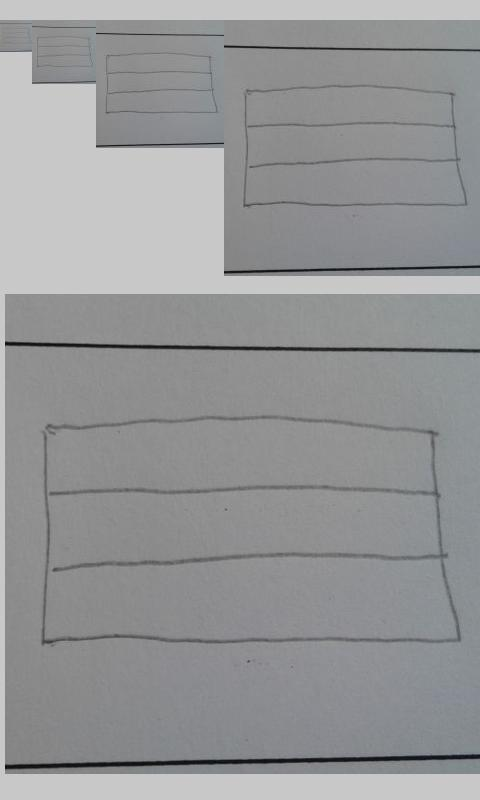list_view: (37, 411, 462, 647), (243, 83, 468, 209), (104, 52, 219, 115), (36, 35, 94, 69), (1, 26, 32, 45)
